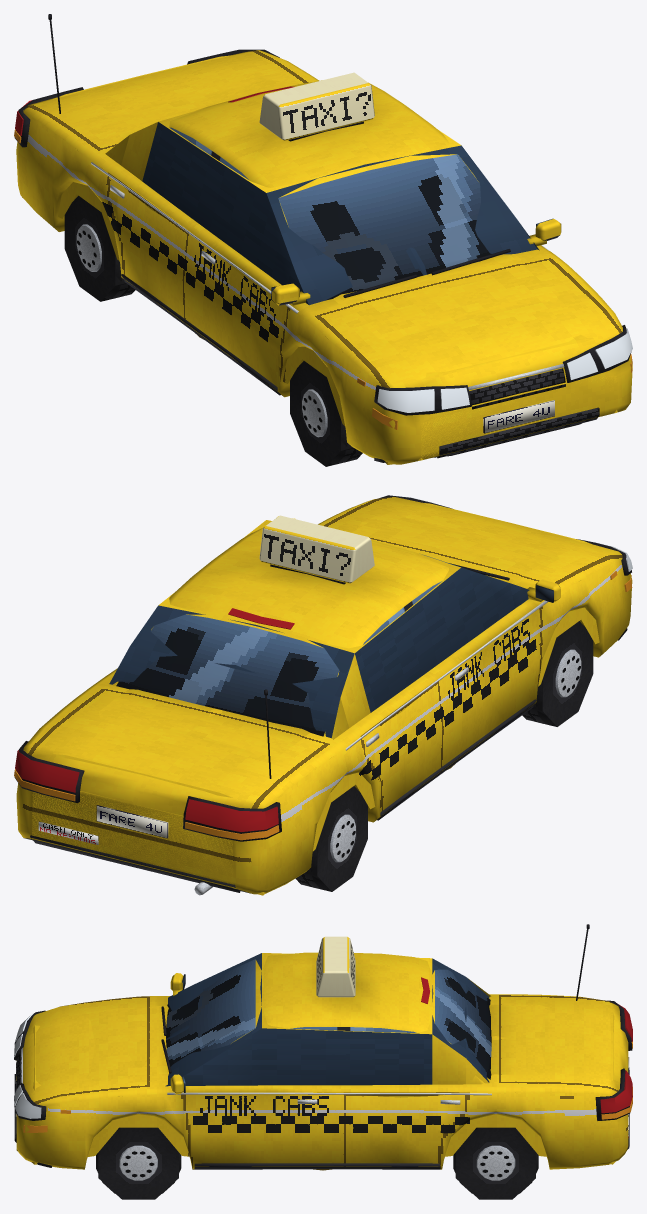
The model's file is p_car_taxi.glb.
3 renders of one model, top to bottom at view 1: azimuth 30°, elevation 25°; view 2: azimuth 150°, elevation 25°; view 3: azimuth 270°, elevation 25°, orthographic. The views are drawn at different scales.
Visible parts, largest first — view 1: shell, lod1_mesh, lamps, wheel_fr, wheel_rr; view 2: shell, lod1_mesh, tails, wheel_fr, wheel_rr, inds; view 3: shell, lod1_mesh, wheel_rl, wheel_fl, tails, lamps, inds.
Part boxes in pixels (x1,y1,x2,y2): shell: (14, 14, 632, 464); lod1_mesh: (22, 55, 617, 466); lamps: (377, 328, 632, 412); wheel_fr: (302, 389, 361, 464); wheel_rr: (76, 224, 134, 299); shell: (14, 495, 632, 895); lod1_mesh: (31, 503, 599, 895); tails: (15, 608, 294, 831); wheel_fr: (523, 649, 581, 724); wheel_rr: (296, 814, 355, 889); inds: (14, 571, 632, 840); shell: (14, 924, 632, 1169); lod1_mesh: (16, 953, 627, 1199); wheel_rl: (453, 1130, 538, 1193); wheel_fl: (96, 1130, 181, 1193); tails: (421, 977, 632, 1113); lamps: (14, 1013, 41, 1118); inds: (23, 1041, 632, 1132).
Bounding box in the file's own units: 2.02 × 1.69 × 4.76.
6 materials, 3 textured.
